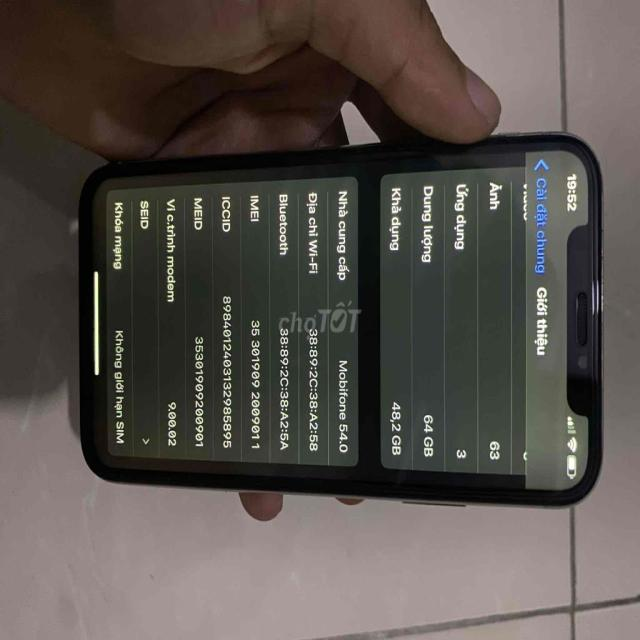gen_x_xs: (79, 133, 602, 507)
